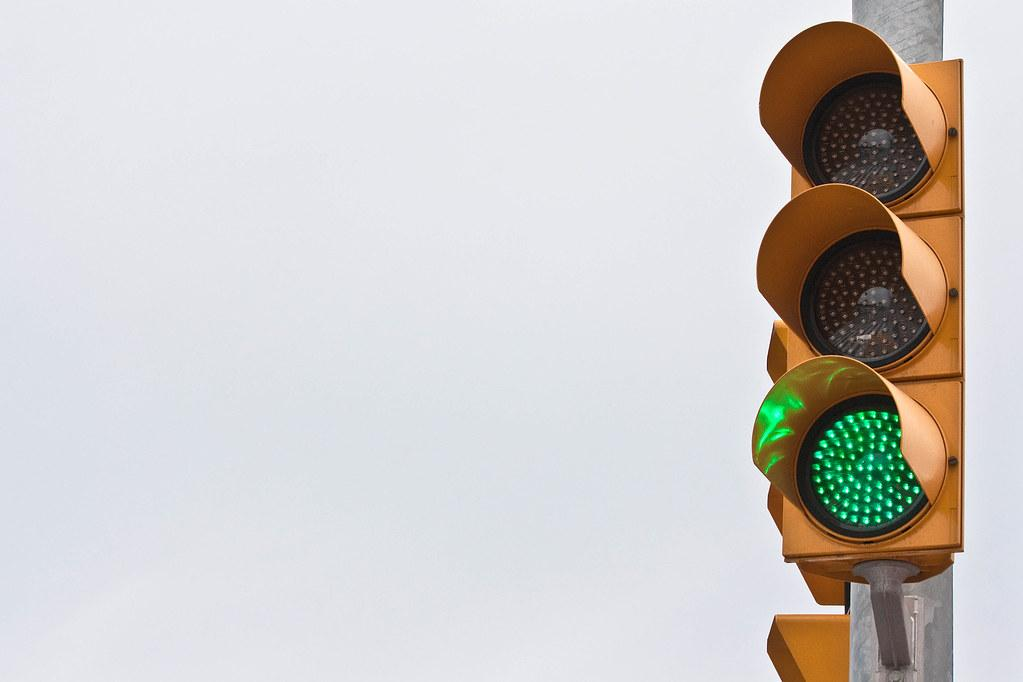Traffic light green: (757, 32, 965, 567)
